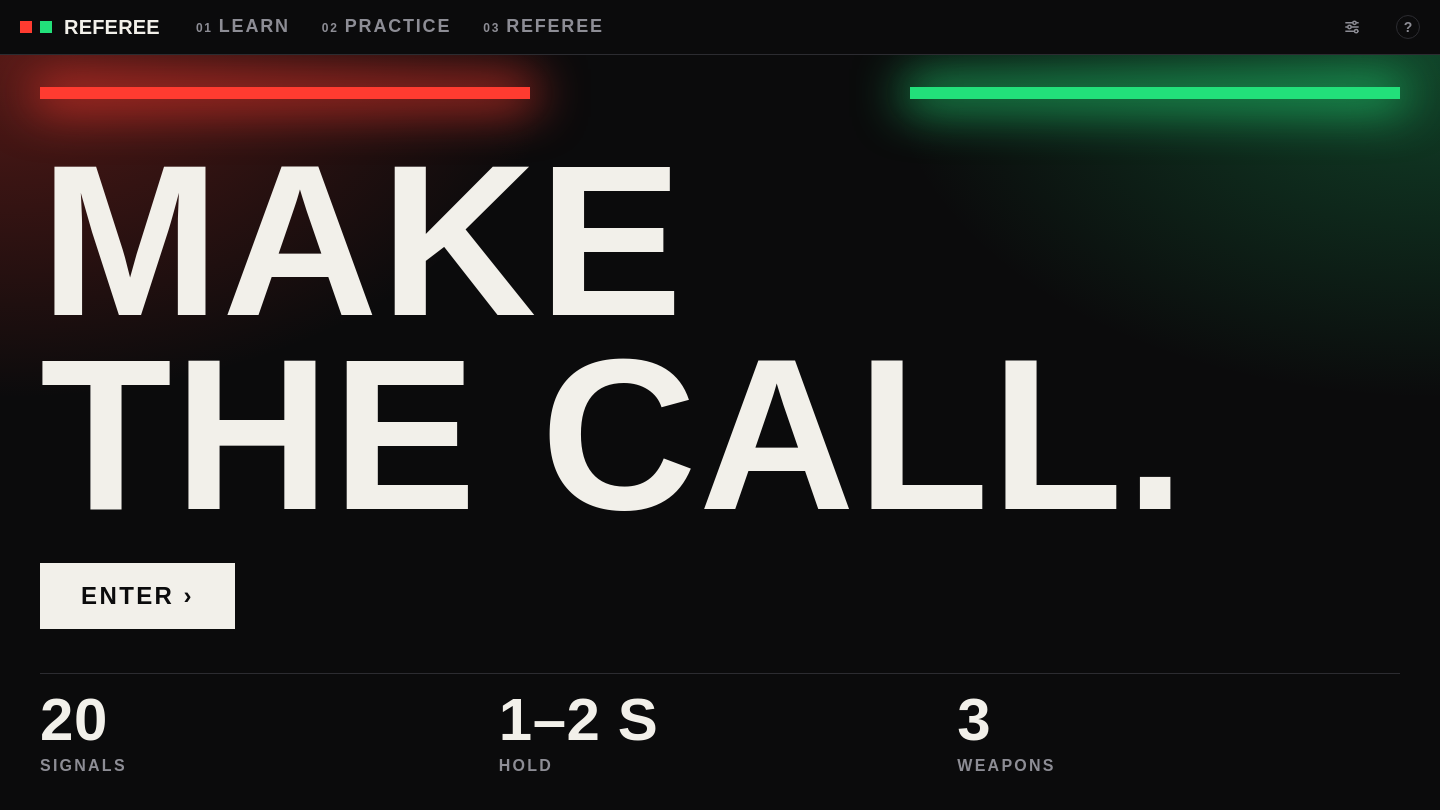
Test case: layout › states the on-device processing guarantee behind the about hint
Hover over the button named "About".
mouse_move(1408, 27)  # box [1396,15,1420,39]
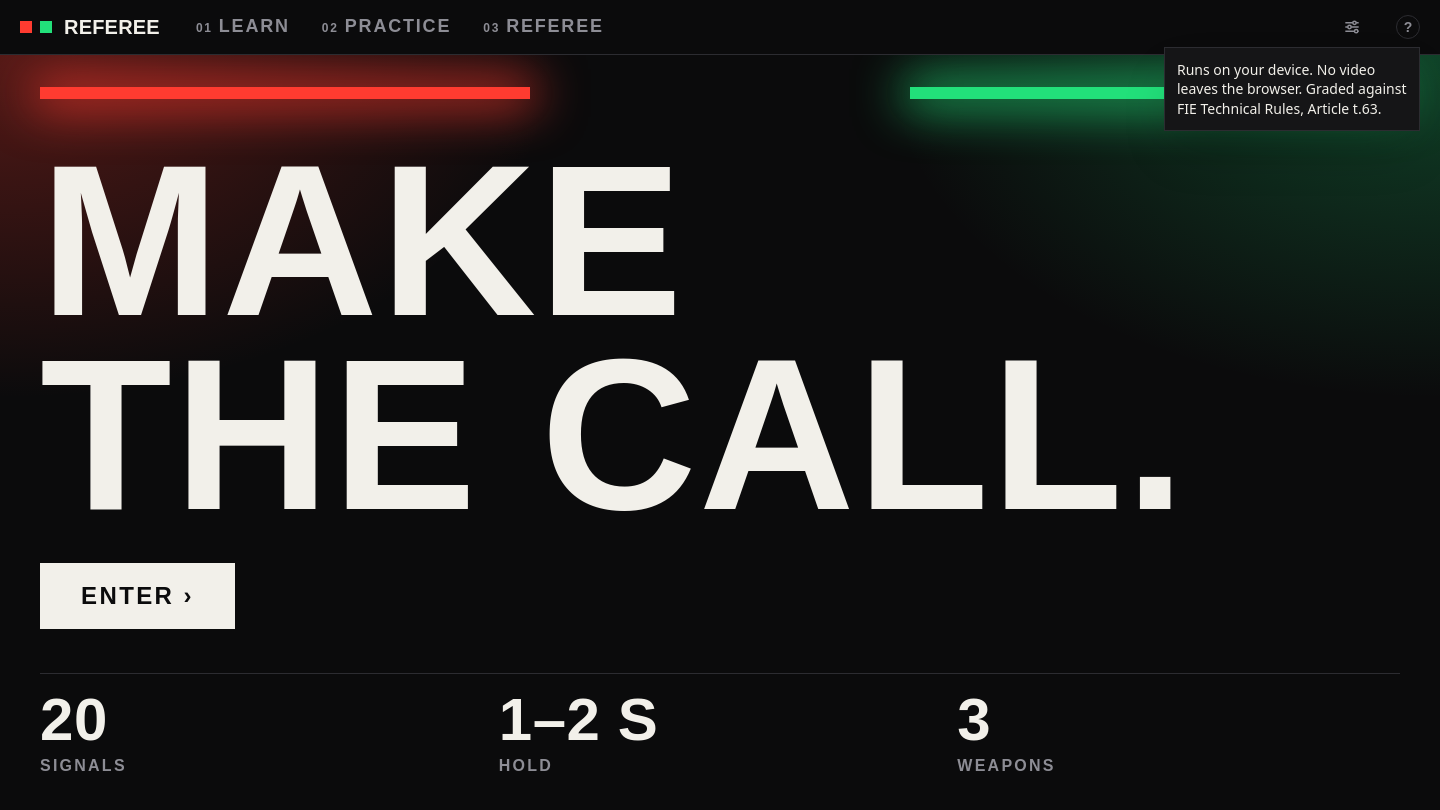
expect the tooltip shows "No video leaves the browser": met, box [1177,60,1406,118]
